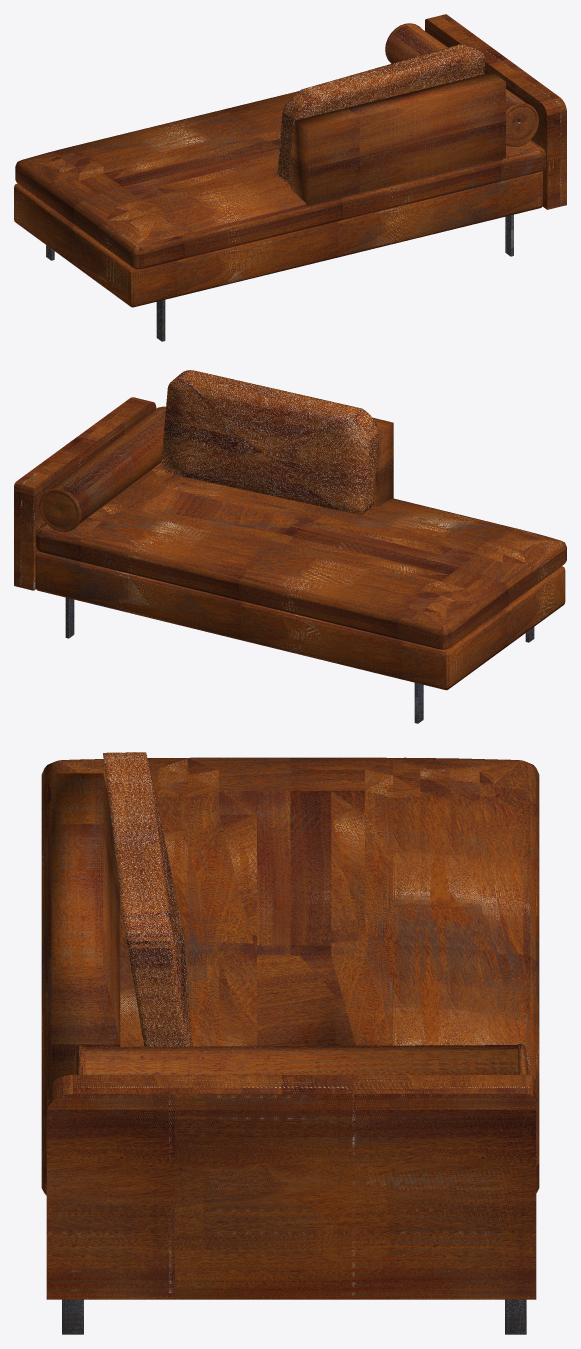
3 views of the same model, one above another, from view 1: azimuth 30°, elevation 25°; view 2: azimuth 150°, elevation 25°; view 3: azimuth 270°, elevation 25° (orthographic). The views are drawn at different scales.
Parts seen in each view (by area): view 1: mesh7_mesh7-geometry, mesh6_mesh6-geometry, mesh3_mesh3-geometry, mesh15_mesh15-geometry, mesh1_mesh1-geometry, mesh10_mesh10-geometry, mesh5_mesh5-geometry; view 2: mesh7_mesh7-geometry, mesh15_mesh15-geometry, mesh6_mesh6-geometry, mesh1_mesh1-geometry, mesh10_mesh10-geometry, mesh11_mesh11-geometry, mesh3_mesh3-geometry, mesh4_mesh4-geometry; view 3: mesh7_mesh7-geometry, mesh1_mesh1-geometry, mesh3_mesh3-geometry, mesh15_mesh15-geometry, mesh10_mesh10-geometry, mesh4_mesh4-geometry, mesh5_mesh5-geometry.
Boxes of the visible parts, <box> form: mesh7_mesh7-geometry: <box>15,91,545,269</box>; mesh6_mesh6-geometry: <box>14,171,542,307</box>; mesh3_mesh3-geometry: <box>290,72,505,205</box>; mesh15_mesh15-geometry: <box>277,43,485,184</box>; mesh1_mesh1-geometry: <box>425,14,566,209</box>; mesh10_mesh10-geometry: <box>387,24,538,146</box>; mesh5_mesh5-geometry: <box>156,214,513,341</box>; mesh7_mesh7-geometry: <box>35,463,566,649</box>; mesh15_mesh15-geometry: <box>161,370,379,514</box>; mesh6_mesh6-geometry: <box>35,551,565,690</box>; mesh1_mesh1-geometry: <box>14,397,156,590</box>; mesh10_mesh10-geometry: <box>51,406,165,524</box>; mesh11_mesh11-geometry: <box>39,488,81,531</box>; mesh3_mesh3-geometry: <box>372,417,393,507</box>; mesh4_mesh4-geometry: <box>65,597,423,723</box>; mesh7_mesh7-geometry: <box>41,757,539,1195</box>; mesh1_mesh1-geometry: <box>46,1075,536,1299</box>; mesh3_mesh3-geometry: <box>51,773,120,1082</box>; mesh15_mesh15-geometry: <box>103,752,192,1046</box>; mesh10_mesh10-geometry: <box>73,1045,518,1074</box>; mesh4_mesh4-geometry: <box>505,1299,526,1334</box>; mesh5_mesh5-geometry: <box>62,1299,83,1334</box>.
Bounding box in the file's own units: 0.8325 × 0.3675 × 0.4147.
